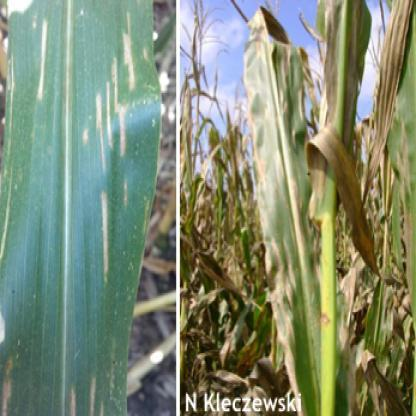Corn leaf blight: (2, 1, 160, 414), (244, 13, 324, 414), (364, 1, 414, 224), (306, 123, 380, 263)
